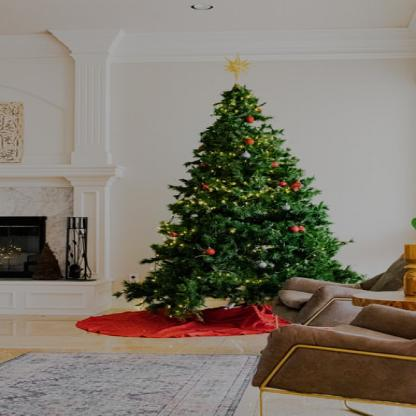x_mas tree: (93, 51, 356, 379)
